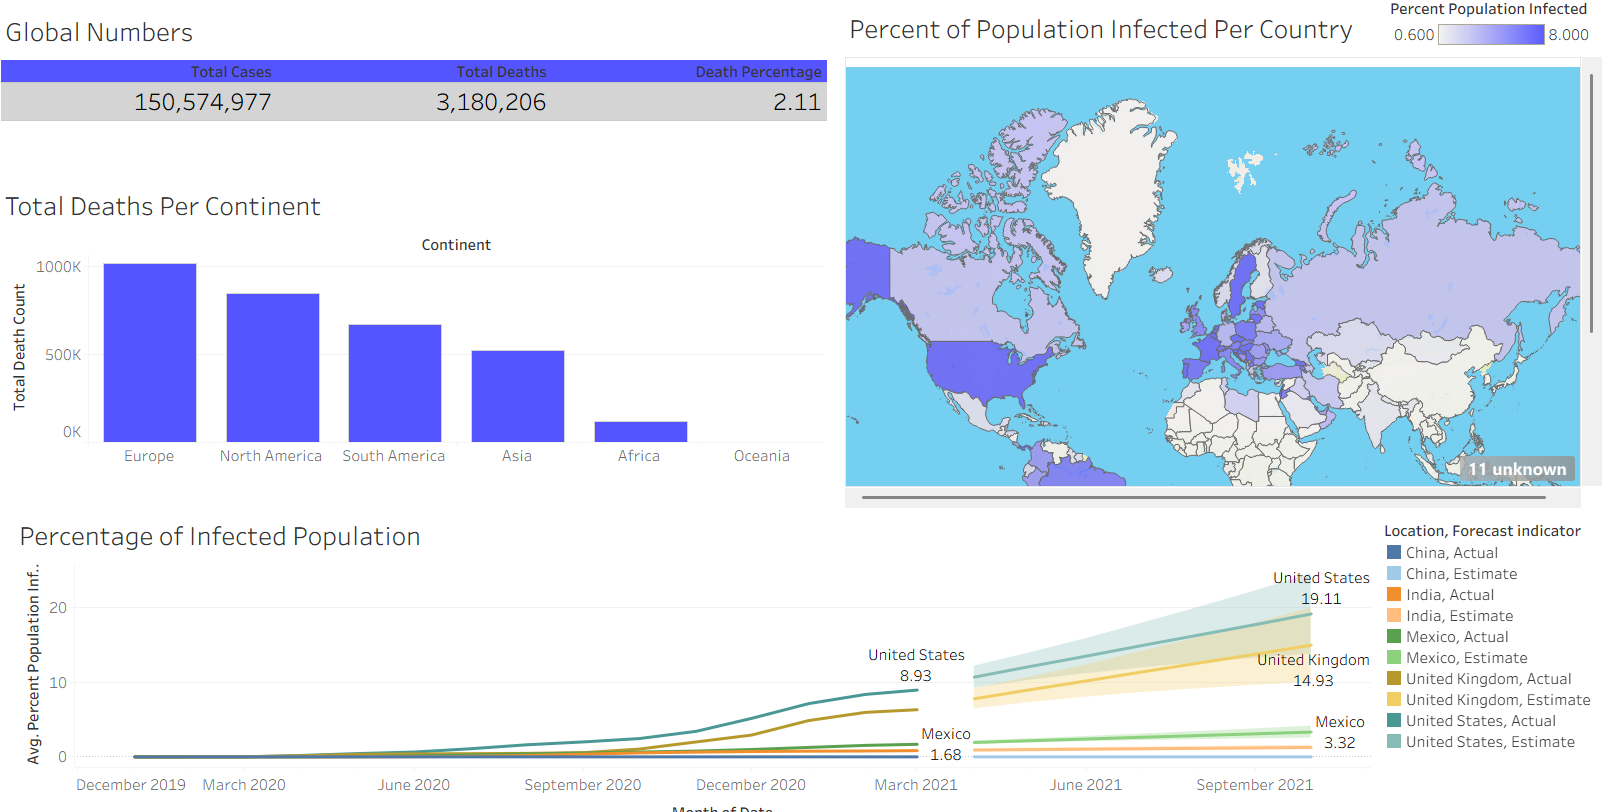

What the dashboard file says about the page in this screenshot:
{"tool":"tableau","page":{"name":"Dashboard 1","canvas":[1000,1000],"units":"permille","ordinal":0},"visuals":[{"type":"legend","title":"Sheet 3","param":"[federated.0u449cd1n8aie91ebn3os13h9vql].[sum:PercentPopulationInfected:qk]","box":[843.5,17.3,122.8,101.3]},{"type":"worksheet","title":"Sheet 3","mark":"Automatic","box":[514.7,28.8,457,589.2]},{"type":"worksheet","title":"Sheet 1","mark":"Automatic","box":[5.4,32.2,500.3,200.2]},{"type":"worksheet","title":"Sheet 2","mark":"Automatic","rows":["TotalDeathCount"],"cols":["location"],"box":[5.4,235.9,496.7,332.6]},{"type":"worksheet","title":"Sheet 4","mark":"Automatic","rows":["PercentPopulationInfected"],"cols":["date"],"box":[13.8,623.7,818.2,371.7]},{"type":"legend","title":"Sheet 4","param":"[federated.1gkbx670suiw0616e2hfd0d9puoa].[none:Location:nk]\n[federated.1gkbx670s","box":[839.9,630.6,148.7,344.1]}]}

Visuals, with their boxes on the dashboard's canvas, which has no fixed pixel size, in thousandths of its width and height (x1, y1, x2, y2). These are canvas units, not pixel positions in the 1609x812 screenshot, which may show the page scaled, cropped or inside an application window:
"Sheet 3" legend: select_region(844, 17, 966, 119)
"Sheet 3" worksheet: select_region(515, 29, 972, 618)
"Sheet 1" worksheet: select_region(5, 32, 506, 232)
"Sheet 2" worksheet: select_region(5, 236, 502, 568)
"Sheet 4" worksheet: select_region(14, 624, 832, 995)
"Sheet 4" legend: select_region(840, 631, 989, 975)
